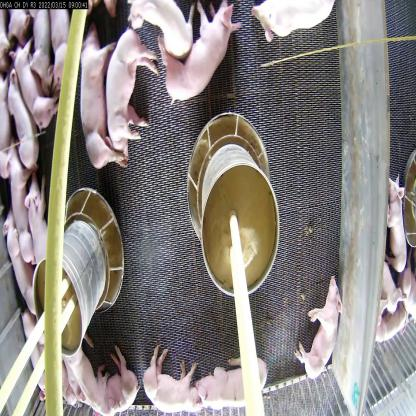Pig: (156, 0, 248, 111), (75, 22, 127, 176), (101, 28, 161, 161), (62, 334, 137, 416), (293, 276, 346, 383), (7, 37, 61, 132), (1, 138, 38, 264), (138, 342, 201, 416), (126, 0, 200, 60), (195, 352, 269, 410), (1, 208, 37, 324), (248, 0, 339, 45), (5, 70, 40, 174), (16, 299, 49, 405), (22, 171, 58, 264), (45, 7, 78, 107), (26, 6, 56, 93), (386, 174, 411, 278)
